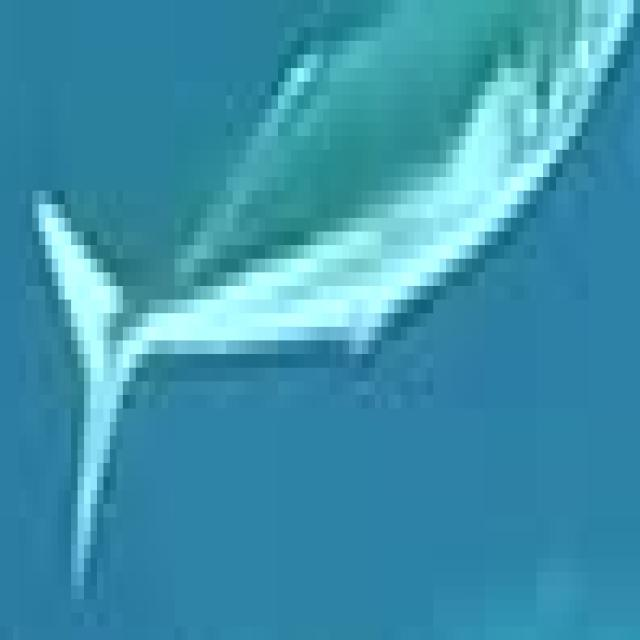fish: (1, 0, 634, 627)
